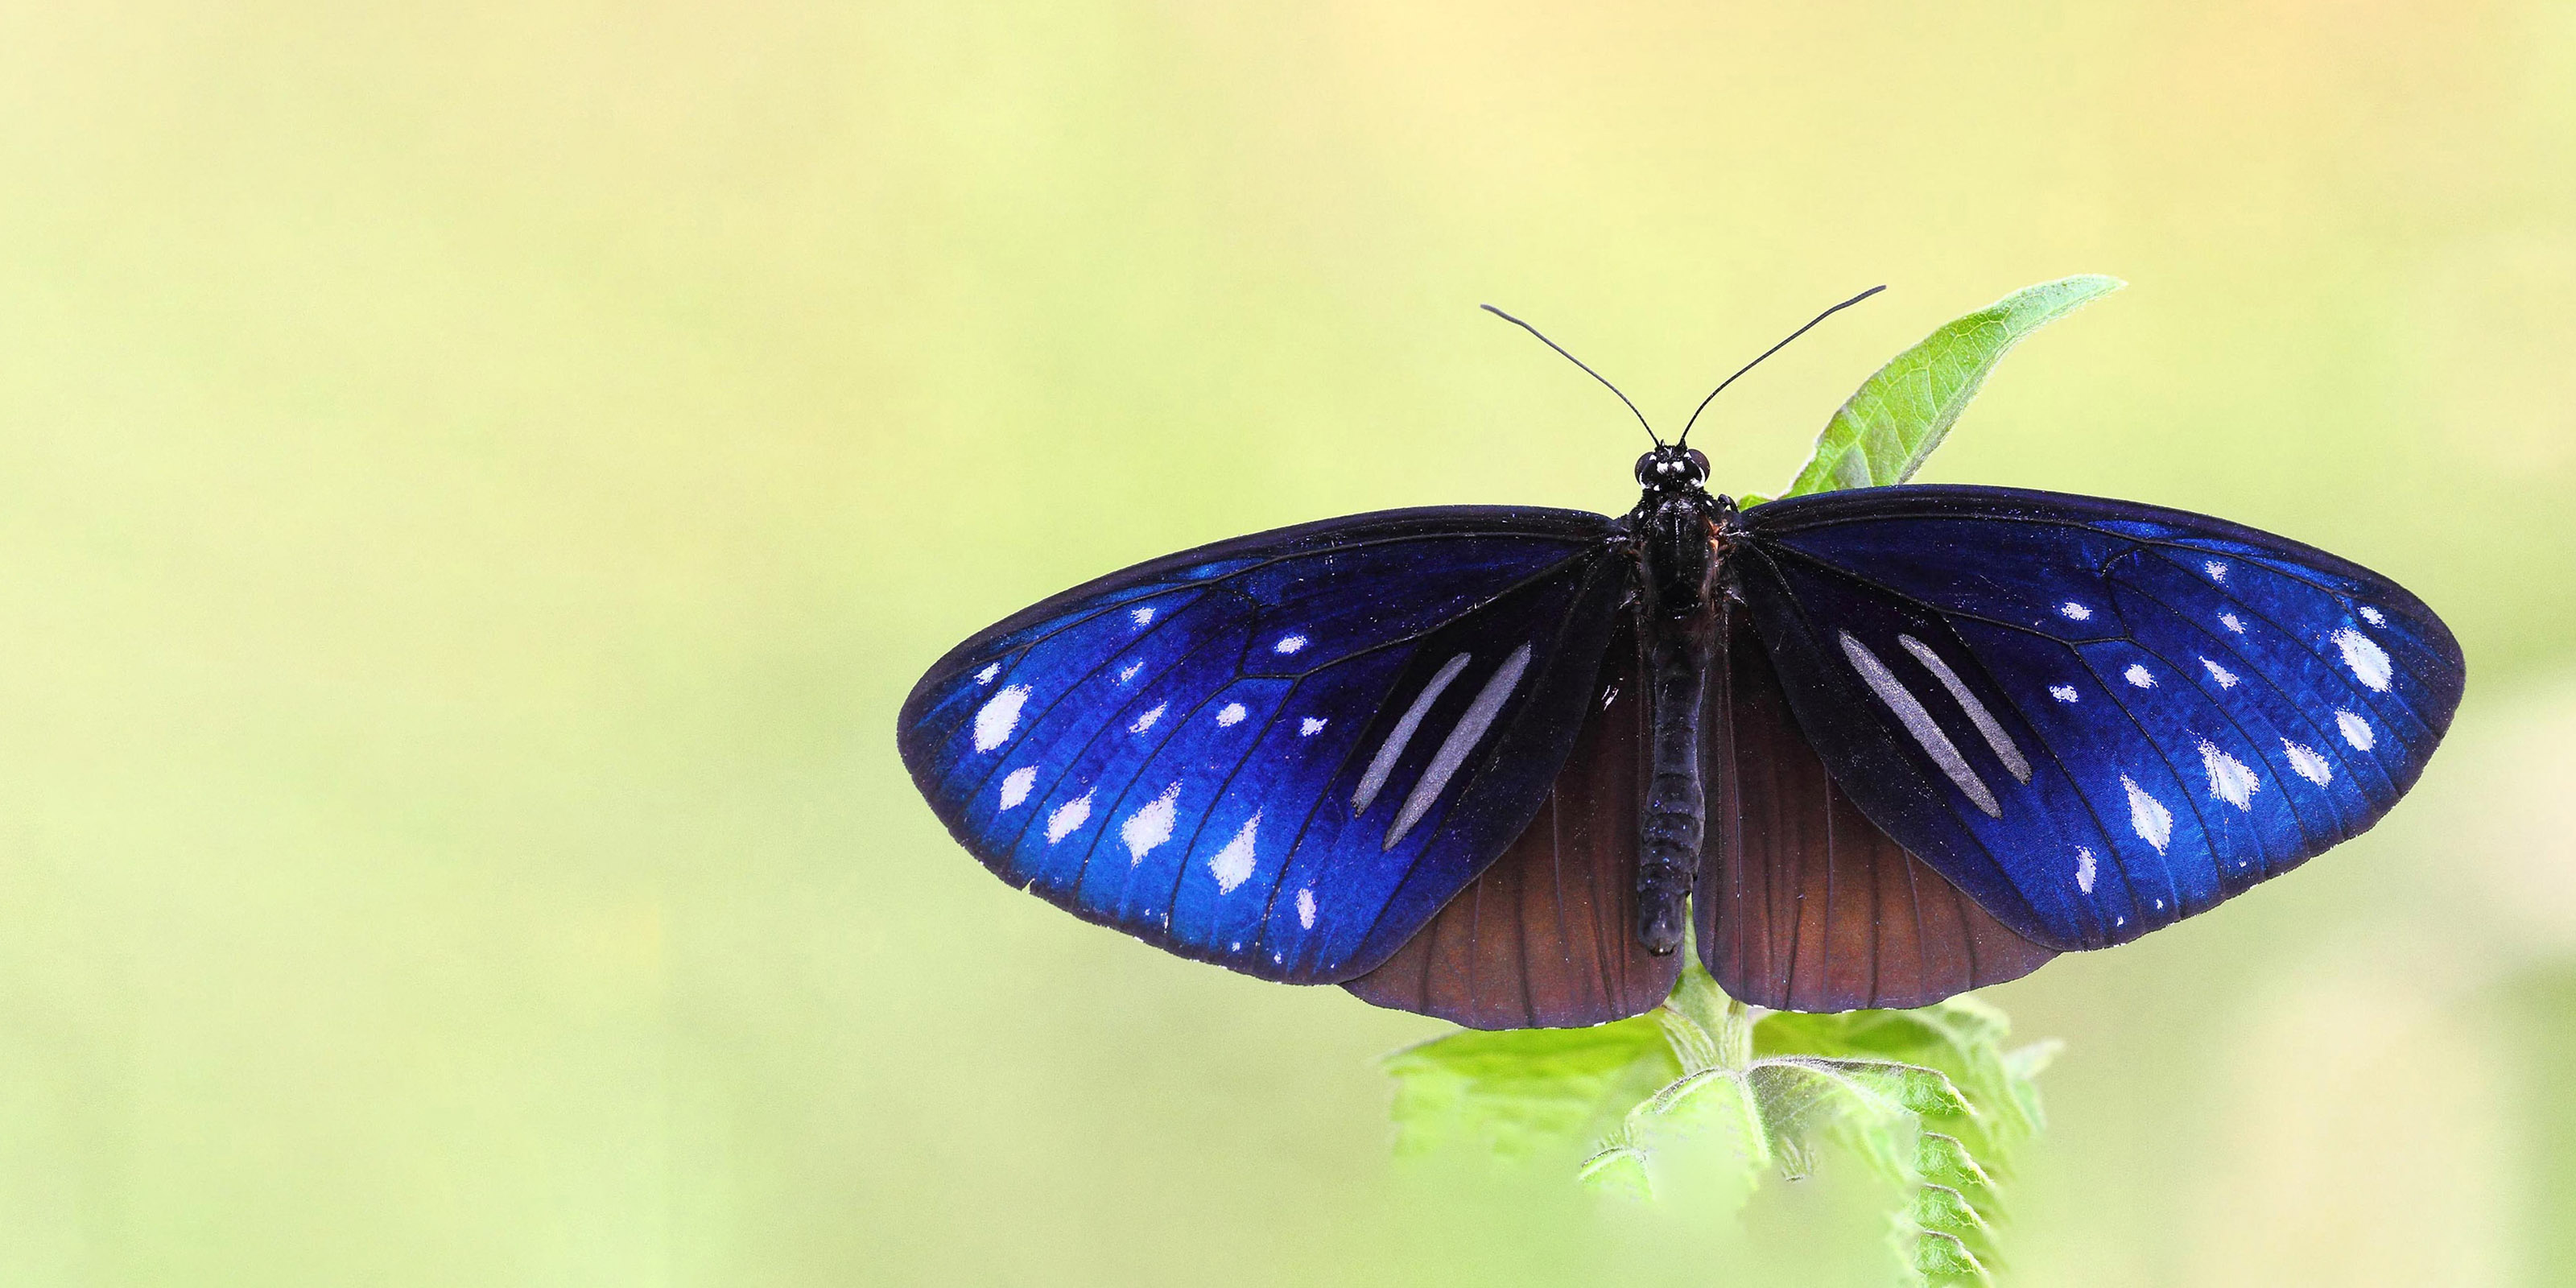Butterfly: (871, 279, 2484, 1022)
